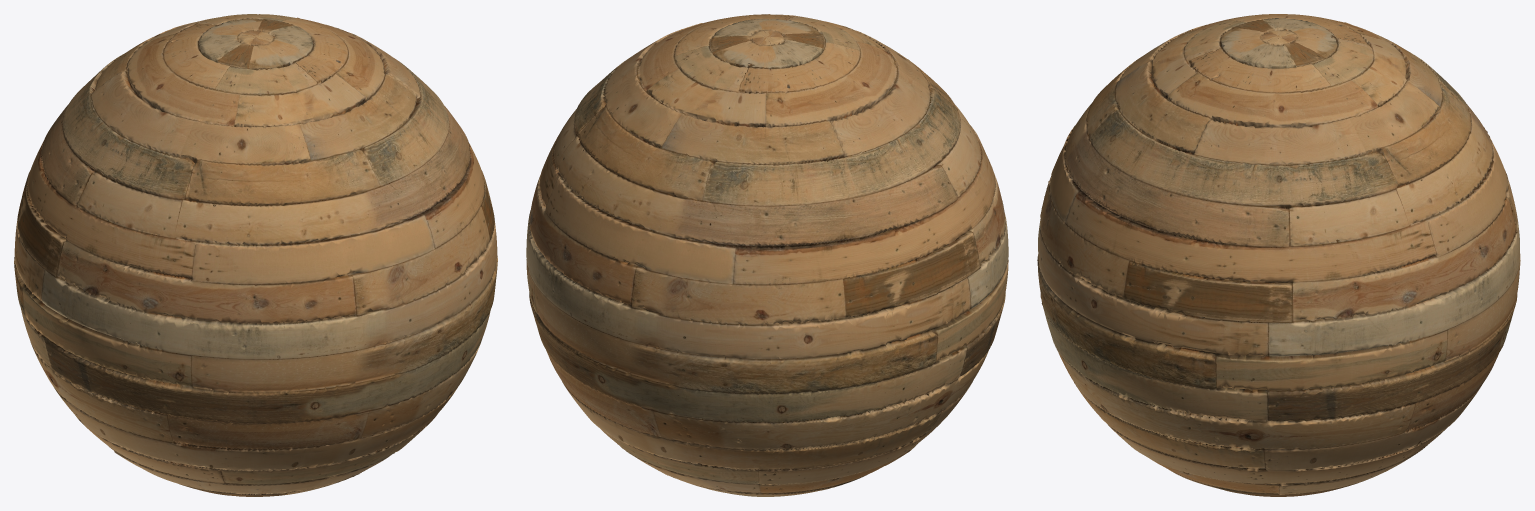
File: raw_plank_wall_1k.gltf
3 renders of one model, left to right at view 1: azimuth 30°, elevation 25°; view 2: azimuth 150°, elevation 25°; view 3: azimuth 270°, elevation 25°, orthographic.
Visible parts, largest first — view 1: sphere_gltf; view 2: sphere_gltf; view 3: sphere_gltf.
Boxes of the visible parts, x1=… form: sphere_gltf: x1=14, y1=14, x2=497, y2=496; sphere_gltf: x1=526, y1=14, x2=1008, y2=496; sphere_gltf: x1=1037, y1=14, x2=1520, y2=496.
Size of the model in its own units: 1.9 by 1.9 by 1.9.
1 material, 1 textured.
